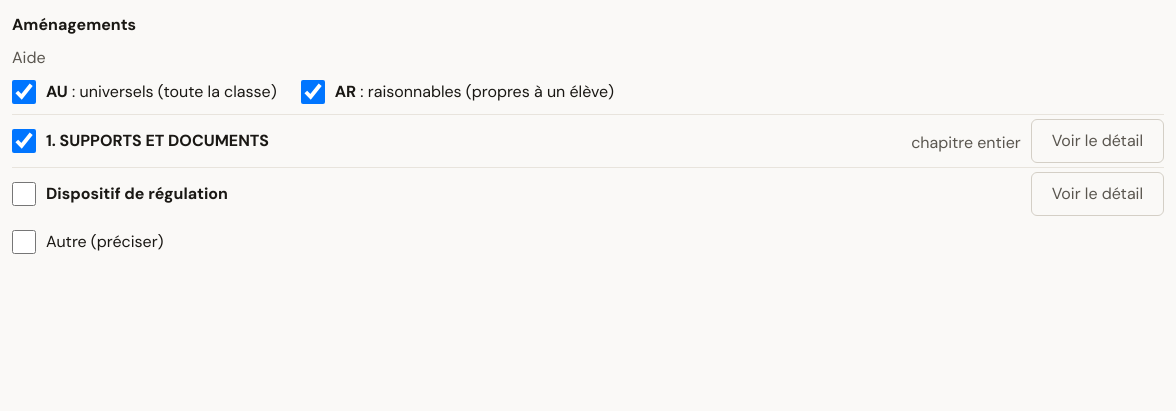
Scenario: SelecteurAmenagements › chapitre entier : détails cochés, désactivés, résumé « chapitre entier »
Expected: the text "chapitre entier" is shown, [911,131,1021,155]
What coordinates should you click on to do the following:
click the button "Voir le détail" next to "chapitre entier"
I would click on:
 (1097, 141)
Its box is [1031,119,1164,163].
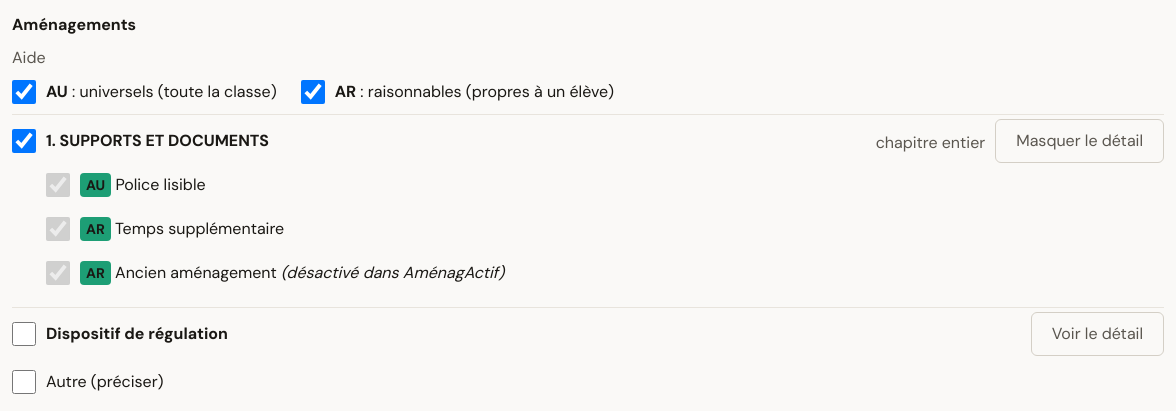
Result: the checkbox labelled "AU Police lisible" is disabled at [46,173,70,197]
Result: the checkbox labelled "AU Police lisible" is checked at [46,173,70,197]
